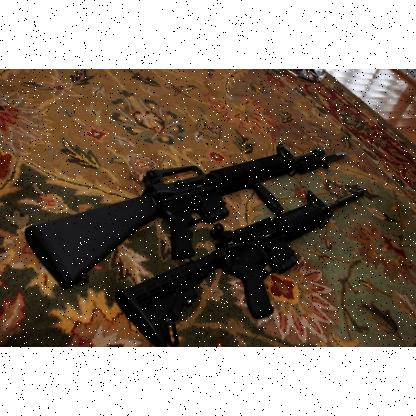gun: (24, 142, 346, 288), (114, 189, 364, 346)
